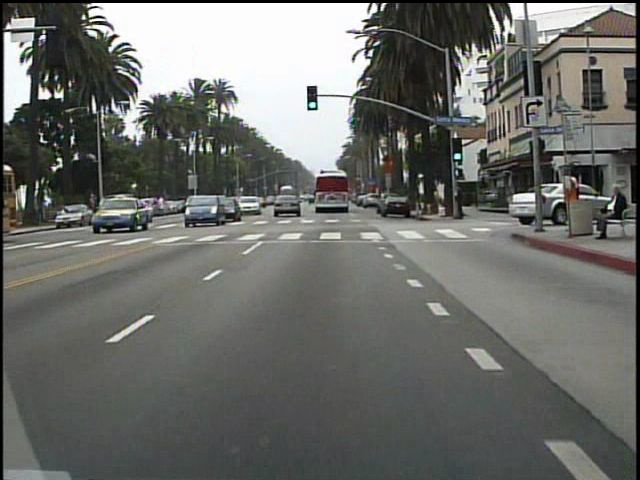person: (591, 182, 626, 241), (561, 172, 581, 234), (453, 184, 468, 226)
